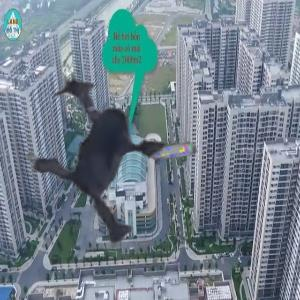drone: (7, 28, 272, 293)
